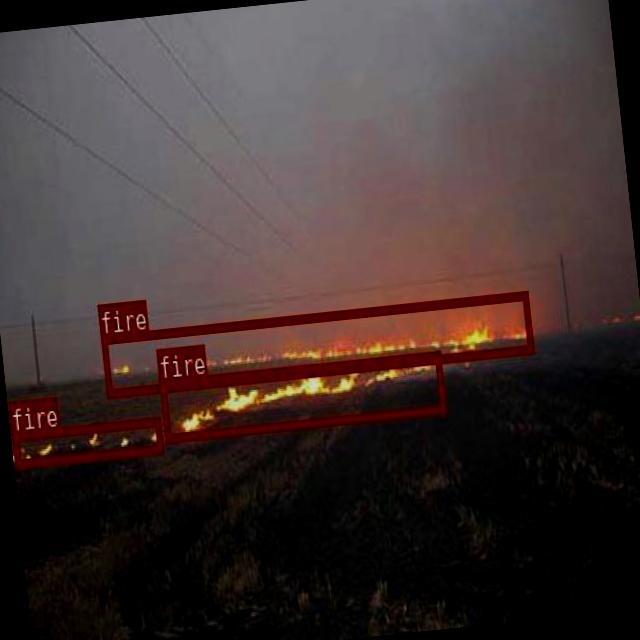fire: (99, 290, 533, 397), (159, 349, 445, 442), (11, 416, 162, 466)
